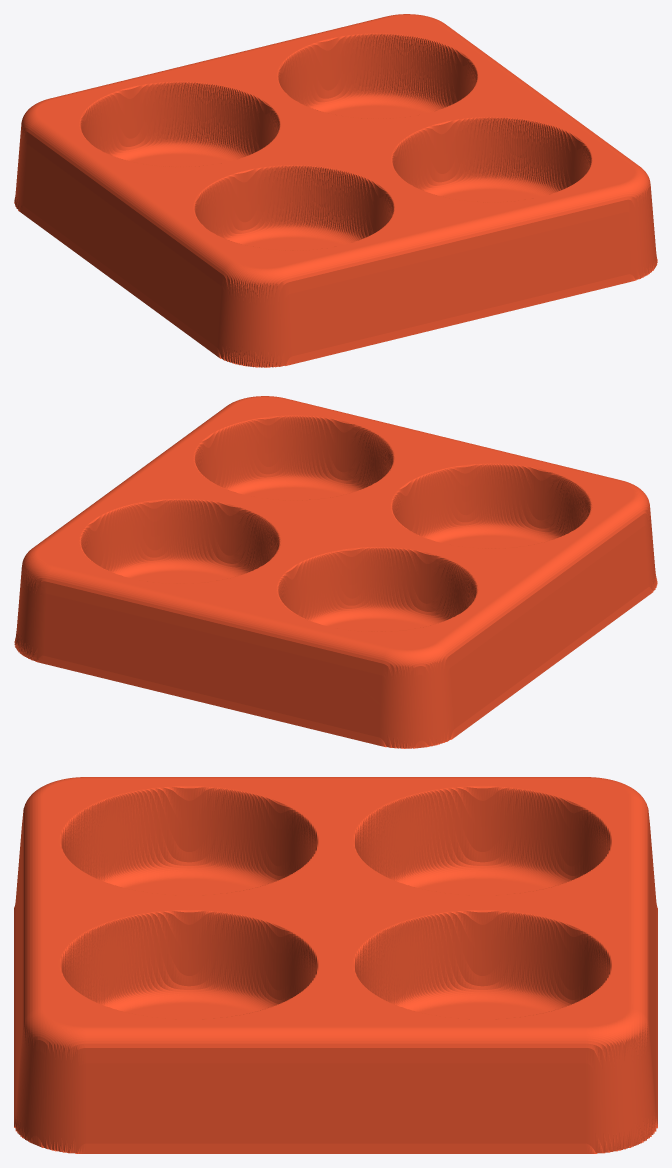
The model's file is mold.glb.
3 renders of one model, top to bottom at view 1: azimuth 30°, elevation 25°; view 2: azimuth 150°, elevation 25°; view 3: azimuth 270°, elevation 25°, orthographic. The views are drawn at different scales.
Visible parts, largest first — view 1: geometry_0; view 2: geometry_0; view 3: geometry_0.
Boxes of the visible parts, <box> form: geometry_0: <box>14,14,657,367</box>; geometry_0: <box>14,396,657,748</box>; geometry_0: <box>14,777,657,1153</box>.
Size of the model in its own units: 0.0808 by 0.0159 by 0.0808.
